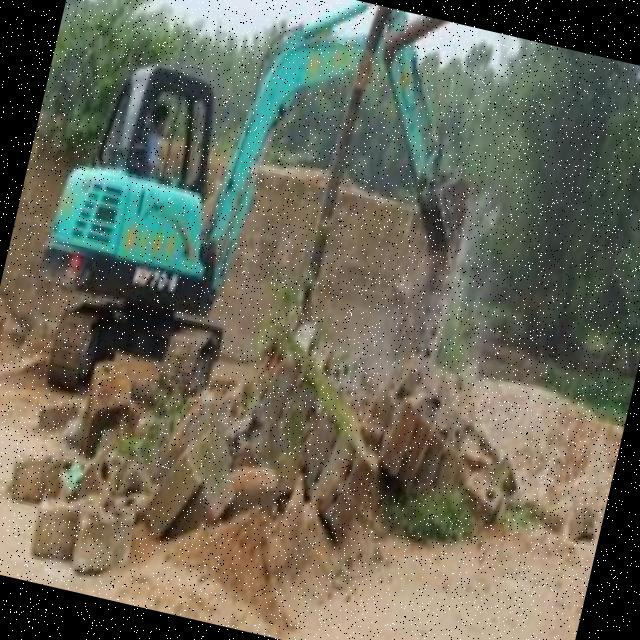Excavator: (10, 0, 505, 481)
